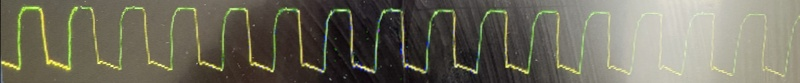normal_pressure: (0, 2, 784, 83)
